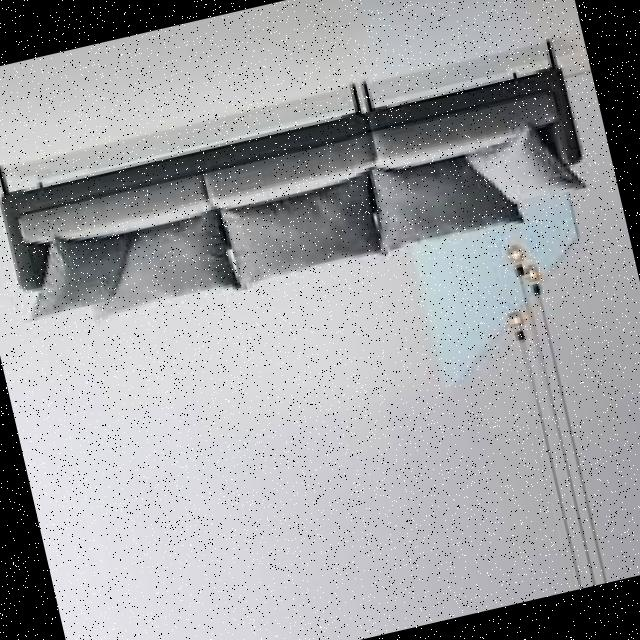Sofa: (0, 21, 611, 362)
